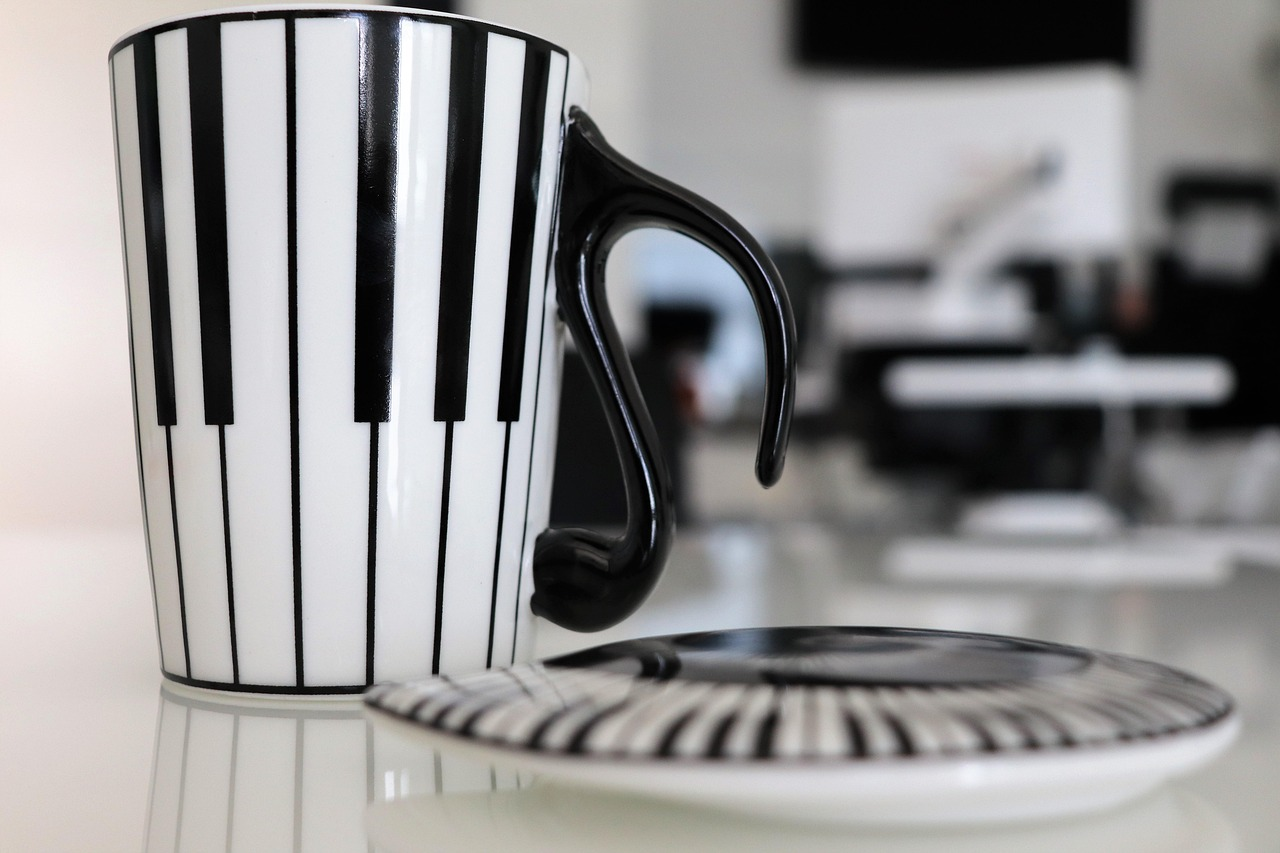mug: (41, 22, 823, 760)
